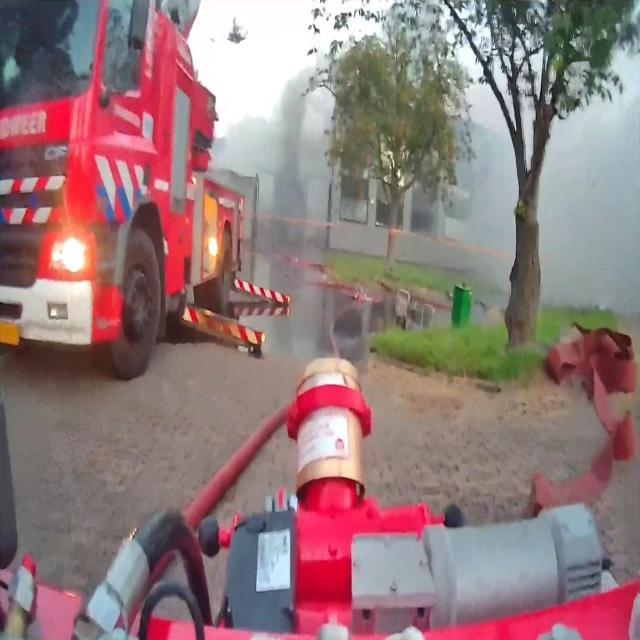Fire: (378, 132, 406, 188)
Smoke: (226, 51, 329, 254)
